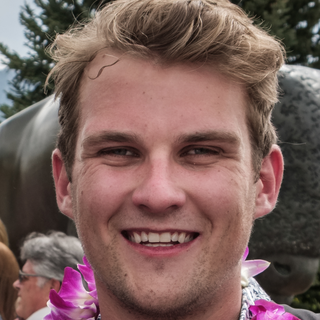eye: (171, 143, 228, 164), (94, 141, 142, 165)
